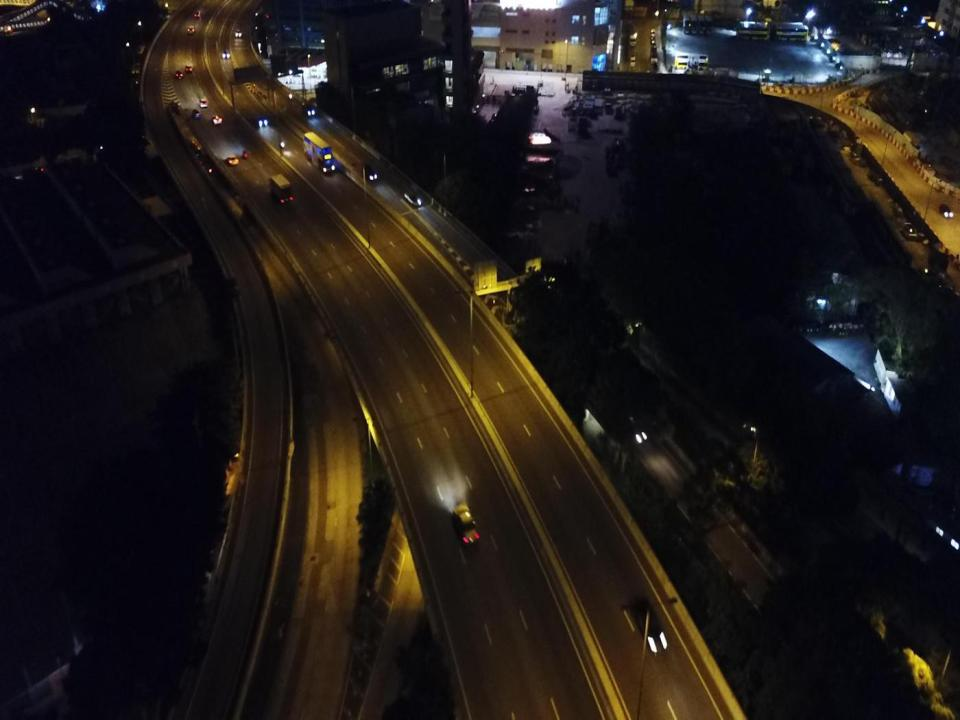bus: (302, 132, 334, 172), (736, 22, 771, 39), (674, 53, 708, 70), (774, 25, 808, 41), (682, 14, 691, 34), (705, 15, 713, 36), (698, 15, 706, 36), (690, 15, 698, 36)
car: (632, 600, 667, 654), (452, 502, 478, 546), (623, 413, 648, 443), (403, 193, 422, 207), (360, 165, 376, 181), (903, 223, 916, 240), (938, 204, 953, 217), (303, 104, 316, 117), (225, 156, 239, 164), (211, 114, 222, 124), (193, 109, 201, 119), (222, 49, 230, 58), (258, 118, 268, 125), (176, 70, 183, 78), (242, 150, 248, 159), (184, 66, 192, 72), (235, 30, 241, 38), (194, 11, 201, 17)
truck: (268, 174, 292, 202), (630, 31, 638, 47), (629, 56, 636, 69)
van: (199, 98, 208, 107), (188, 25, 196, 34)
